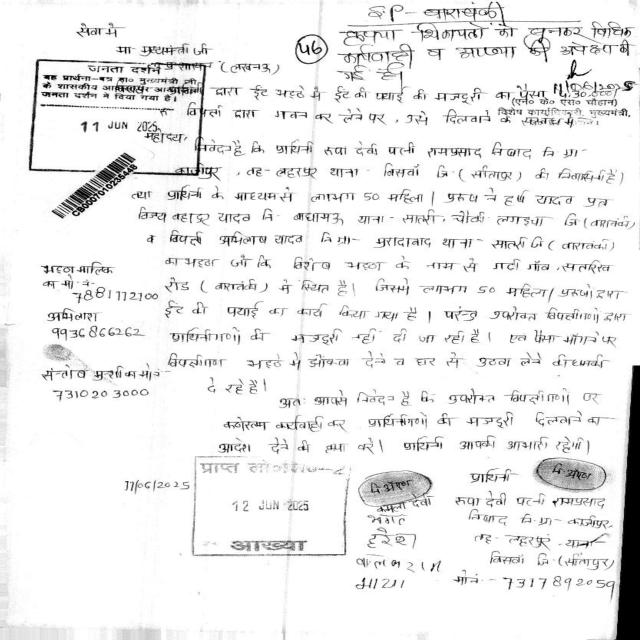antritgovtstamp: (195, 452, 349, 556)
barcode: (52, 152, 140, 219)
fingerprint: (532, 452, 608, 493), (354, 471, 434, 506)
jantadarsan: (36, 59, 208, 177)
signnamestamp: (495, 61, 635, 125)
